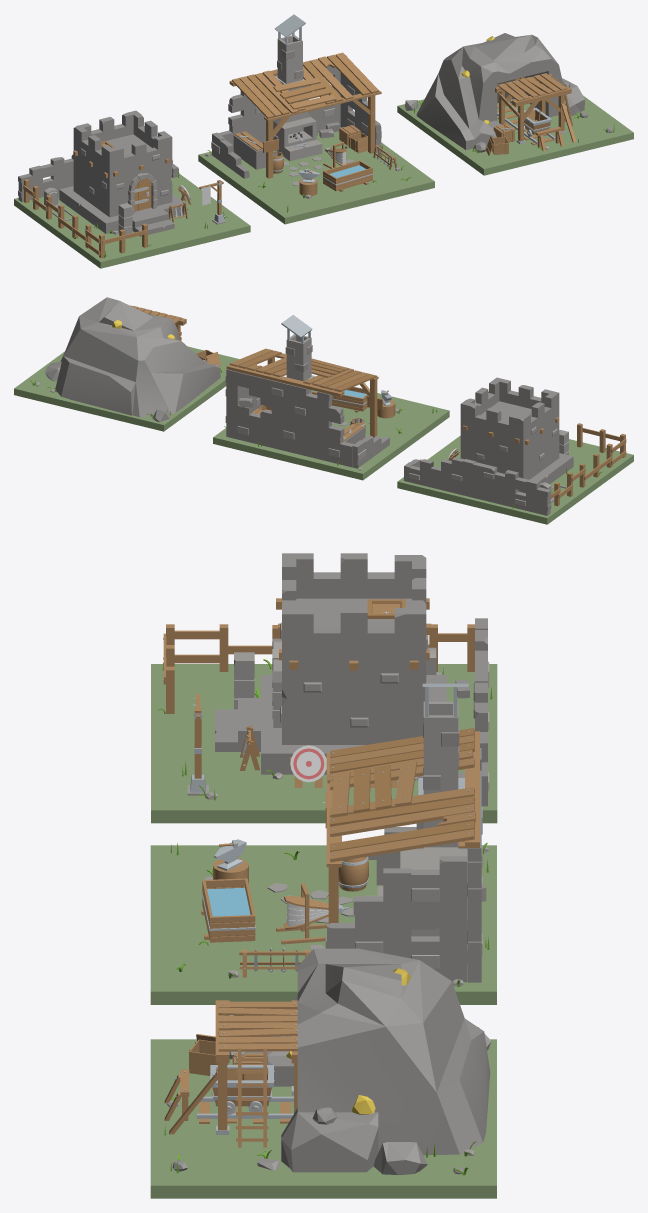
Rendered from xyz_detailing_low_poly_buildings_draft.glb.
3 renders of one model, top to bottom at view 1: azimuth 30°, elevation 25°; view 2: azimuth 150°, elevation 25°; view 3: azimuth 270°, elevation 25°, orthographic. The views are drawn at different scales.
Visible parts, largest first — view 1: Box001, Box050, Box003, Box002, Box004, Box021, Box017, Box014, Box020, Box039, Box037, Box018 (+15 smaller); view 2: Box050, Box001, Box017, Box003, Box014, Box002, Box004, Box021, Box037, Box040, Box039, Box019 (+1 smaller); view 3: Box050, Box001, Box003, Box004, Box002, Box020, Box021, Box039, Box017, Box014, Box106, Box103 (+11 smaller).
Boxes of the visible parts, <box> form: Box001: <box>59,110,185,236</box>; Box050: <box>416,33,584,149</box>; Box003: <box>198,127,434,224</box>; Box002: <box>14,174,250,268</box>; Box004: <box>397,95,633,175</box>; Box021: <box>273,35,322,161</box>; Box017: <box>218,66,340,151</box>; Box014: <box>18,154,73,202</box>; Box020: <box>340,72,381,152</box>; Box039: <box>322,160,373,191</box>; Box037: <box>211,132,249,178</box>; Box018: <box>233,134,265,169</box>; Box050: <box>55,297,220,417</box>; Box001: <box>460,377,573,493</box>; Box017: <box>225,369,353,467</box>; Box003: <box>213,390,449,480</box>; Box014: <box>409,457,551,515</box>; Box002: <box>397,435,633,524</box>; Box004: <box>14,346,239,431</box>; Box021: <box>285,334,312,393</box>; Box037: <box>352,435,389,468</box>; Box040: <box>226,364,344,396</box>; Box039: <box>332,387,367,412</box>; Box019: <box>370,380,377,437</box>; Box050: <box>246,948,490,1172</box>; Box001: <box>215,553,446,774</box>; Box003: <box>150,845,496,1004</box>; Box004: <box>150,1039,496,1198</box>; Box002: <box>151,664,497,823</box>; Box020: <box>325,856,467,982</box>; Box021: <box>377,701,467,936</box>; Box039: <box>201,878,256,942</box>; Box017: <box>467,748,482,982</box>; Box014: <box>473,618,489,791</box>; Box106: <box>330,829,474,862</box>; Box103: <box>330,804,474,836</box>.
Bounding box in the file's own units: 427 × 99.87 × 120.
